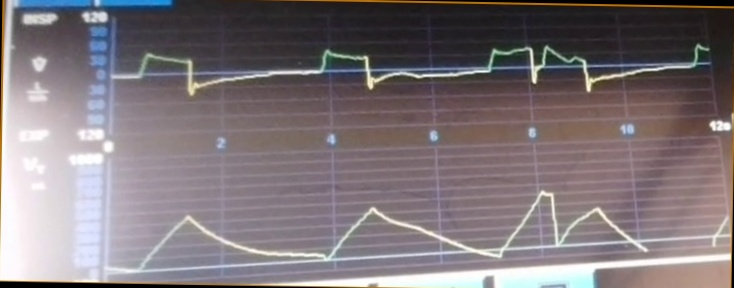Double_Triggering Flow: (117, 16, 708, 113)
Double_Triggering Volume: (115, 181, 726, 279)
